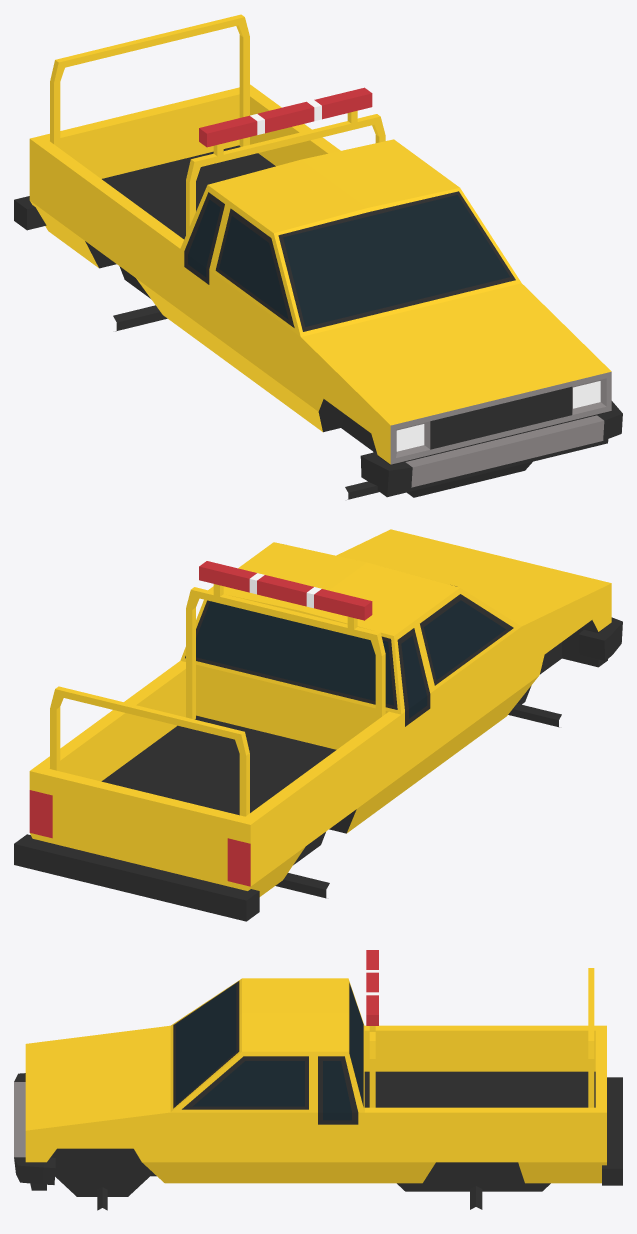
Rendered from car-baywatch-base.glb.
3 renders of one model, top to bottom at view 1: azimuth 30°, elevation 25°; view 2: azimuth 150°, elevation 25°; view 3: azimuth 270°, elevation 25°, orthographic. The views are drawn at different scales.
Parts seen in each view (by area): view 1: car-baywatch-base; view 2: car-baywatch-base; view 3: car-baywatch-base.
Boxes of the visible parts, x1,y1,x2,y2 form: car-baywatch-base: (14,14,622,499); car-baywatch-base: (14,529,622,921); car-baywatch-base: (14,950,622,1210).
Bounding box in the file's own units: 1.96 × 1.86 × 5.27.
Materials: 1 (1 with a texture image).
